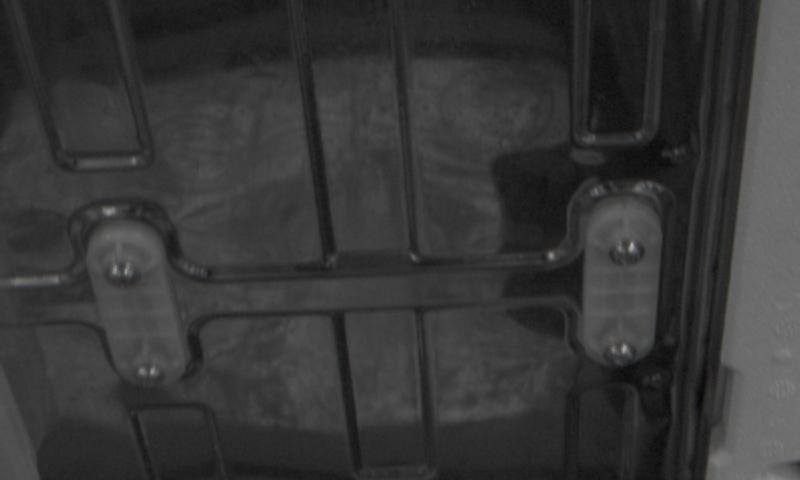vida-ok: (609, 233, 656, 277), (100, 256, 146, 300), (602, 337, 647, 377), (127, 356, 172, 395)
